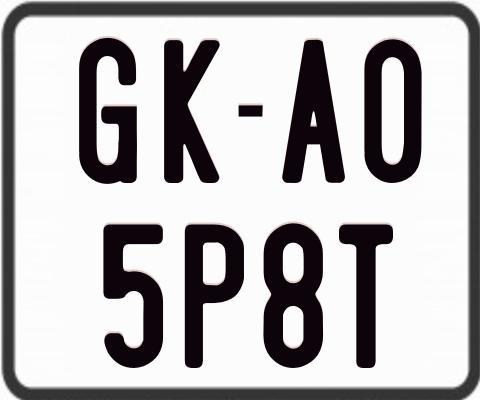0: (362, 36, 424, 185)
5: (101, 224, 167, 373)
8: (260, 223, 320, 368)
A: (280, 39, 347, 182)
G: (77, 35, 136, 181)
K: (162, 39, 220, 183)
P: (184, 222, 246, 368)
T: (336, 221, 393, 366)
